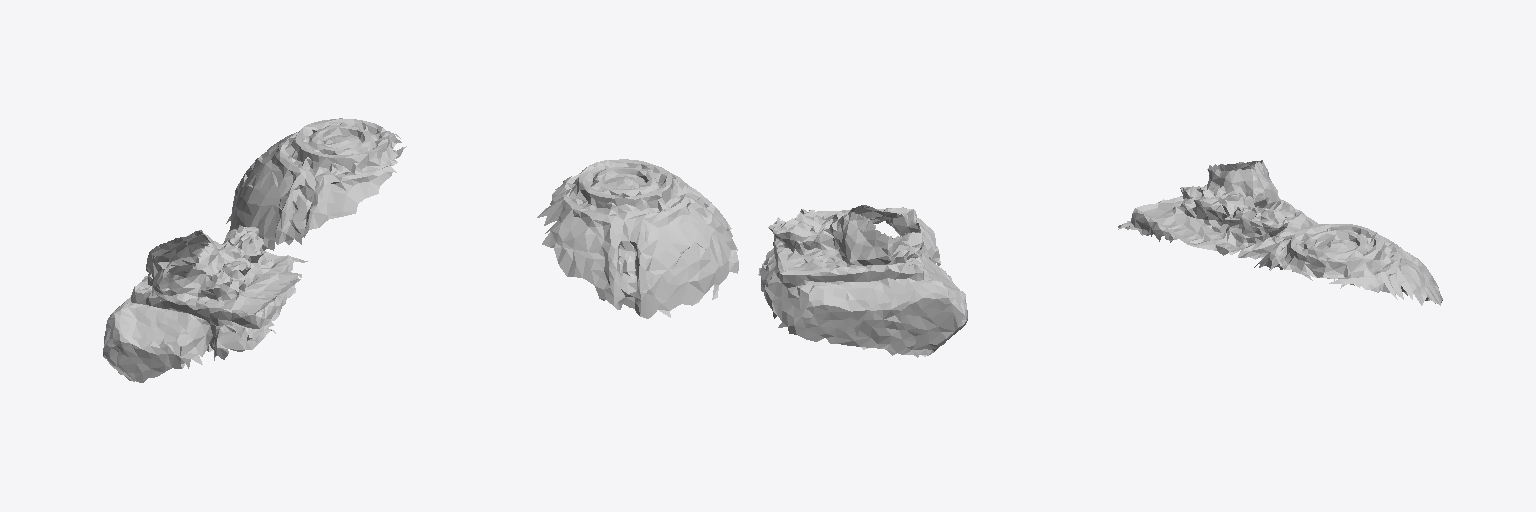
File: domenew1_2.obj
3 views of the same model, side by side, from view 1: azimuth 30°, elevation 25°; view 2: azimuth 150°, elevation 25°; view 3: azimuth 270°, elevation 25° (orthographic).
Parts seen in each view (by area): view 1: NewDomeLO_2; view 2: NewDomeLO_2; view 3: NewDomeLO_2.
Part boxes in pixels (left/top/right/bottom): NewDomeLO_2: left=103, top=118, right=406, bottom=382; NewDomeLO_2: left=537, top=159, right=967, bottom=357; NewDomeLO_2: left=1118, top=160, right=1442, bottom=305.
Bounding box in the file's own units: 3822 × 1505 × 3076.